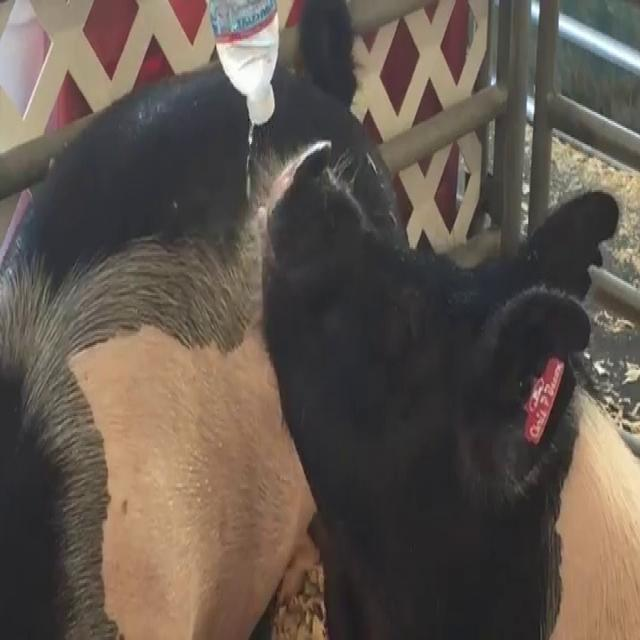pig: (0, 0, 396, 639), (265, 154, 640, 639)
